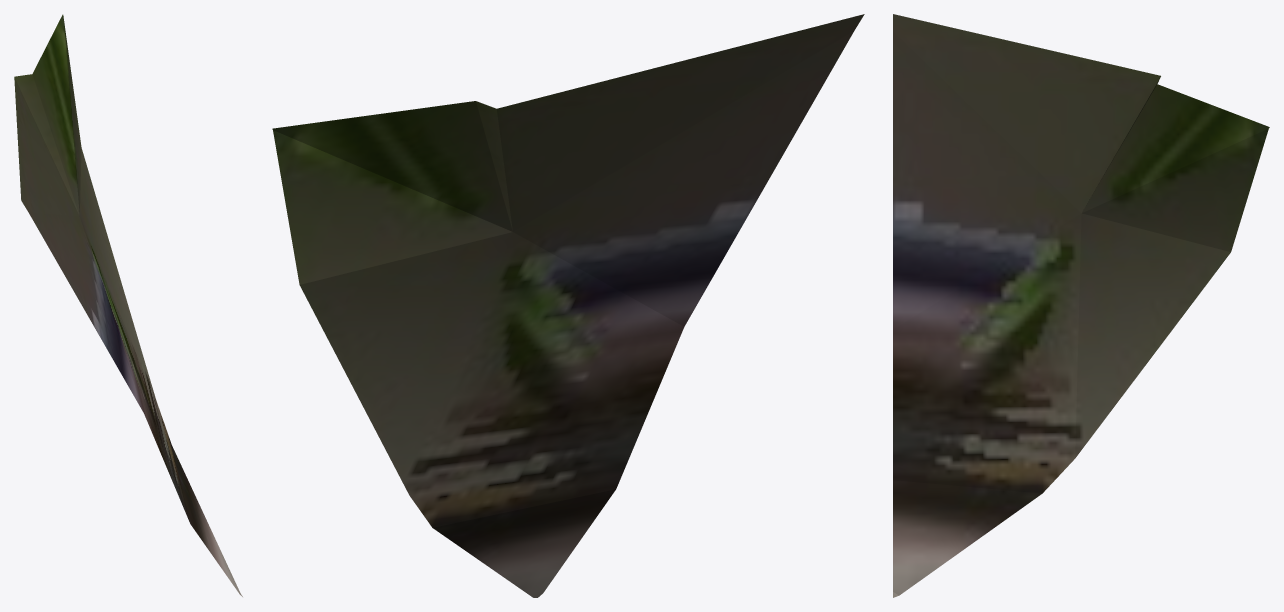
3 renders of one model, left to right at view 1: azimuth 30°, elevation 25°; view 2: azimuth 150°, elevation 25°; view 3: azimuth 270°, elevation 25°, orthographic. The views are drawn at different scales.
Bounding box in the file's own units: 0.3238 × 0.6282 × 0.4557.
Materials: 1 (1 with a texture image).
